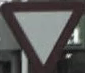Give way: (5, 1, 76, 69)
